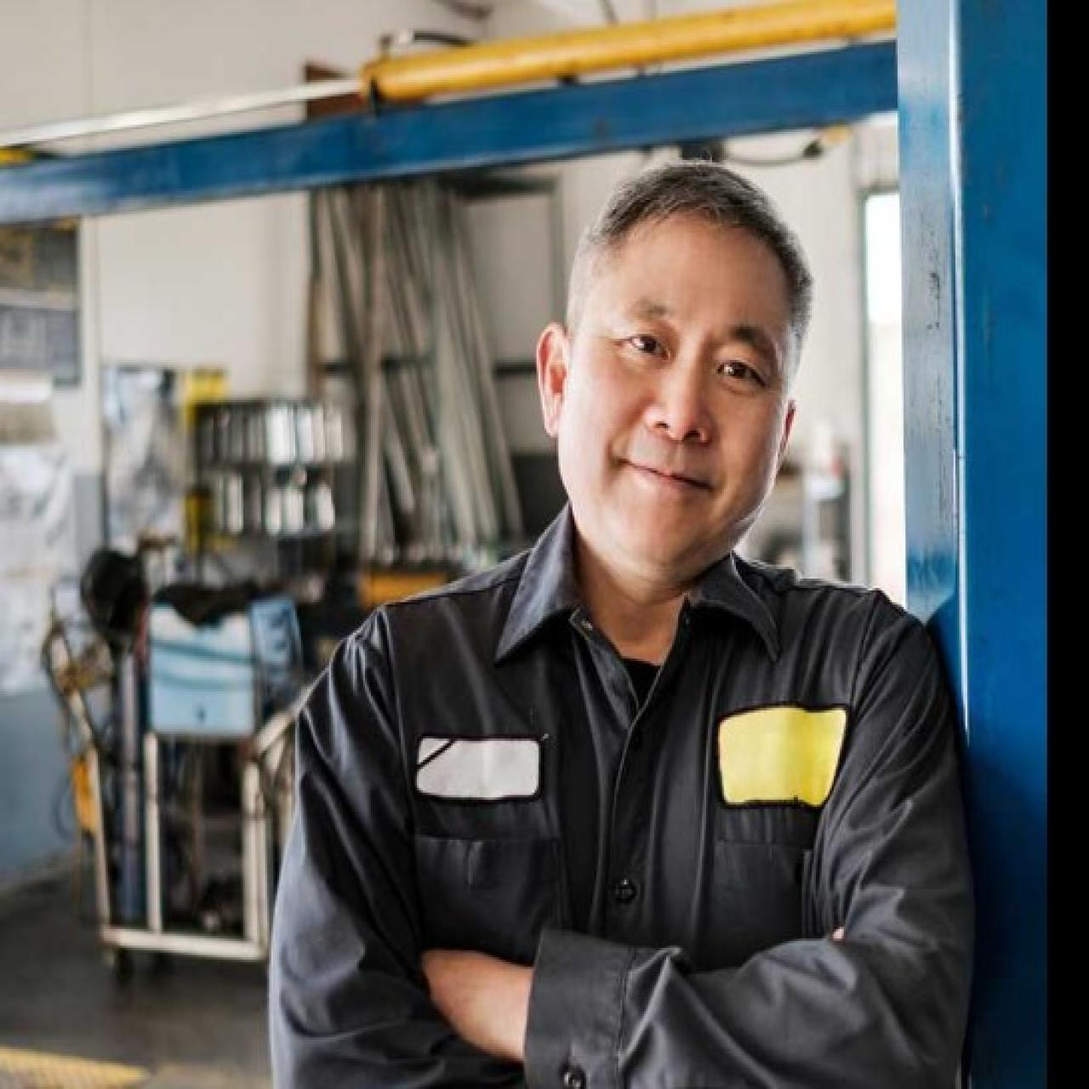NO_Safety_Vest: (349, 576, 896, 1089)
Person: (229, 136, 995, 1089)
